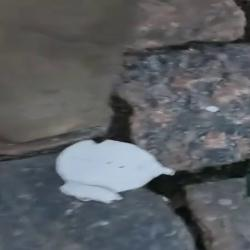Restaffald: (56, 140, 174, 202)
